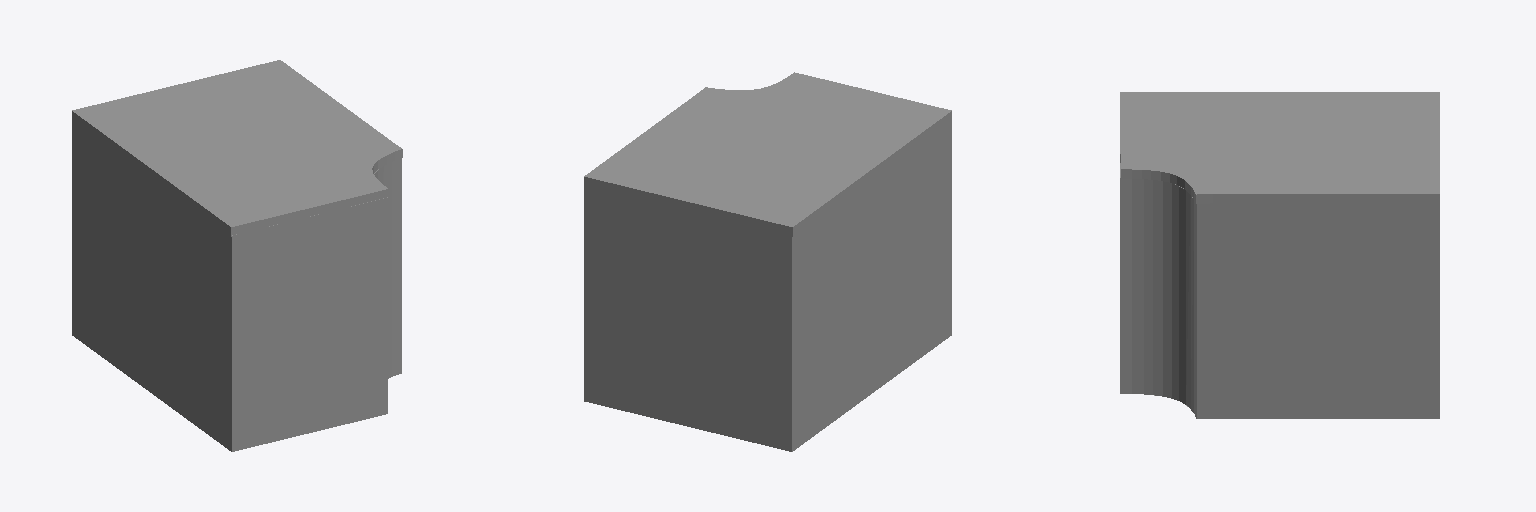
The model's file is cornerCabinet.obj.
3 renders of one model, left to right at view 1: azimuth 30°, elevation 25°; view 2: azimuth 150°, elevation 25°; view 3: azimuth 270°, elevation 25°, orthographic.
Visible parts, largest first — view 1: PolyMesh_1.004, PolyMesh_1_1.003; view 2: PolyMesh_1.004, PolyMesh_1_1.003; view 3: PolyMesh_1.004, PolyMesh_1_1.003.
Part boxes in pixels (x1,y1,x2,y2): PolyMesh_1.004: (72, 120, 401, 451); PolyMesh_1_1.003: (72, 60, 402, 236); PolyMesh_1.004: (584, 120, 951, 451); PolyMesh_1_1.003: (584, 72, 951, 236); PolyMesh_1.004: (1120, 163, 1439, 418); PolyMesh_1_1.003: (1120, 92, 1439, 203).
Bounding box in the file's own units: 3.3 × 3.4 × 4.37.